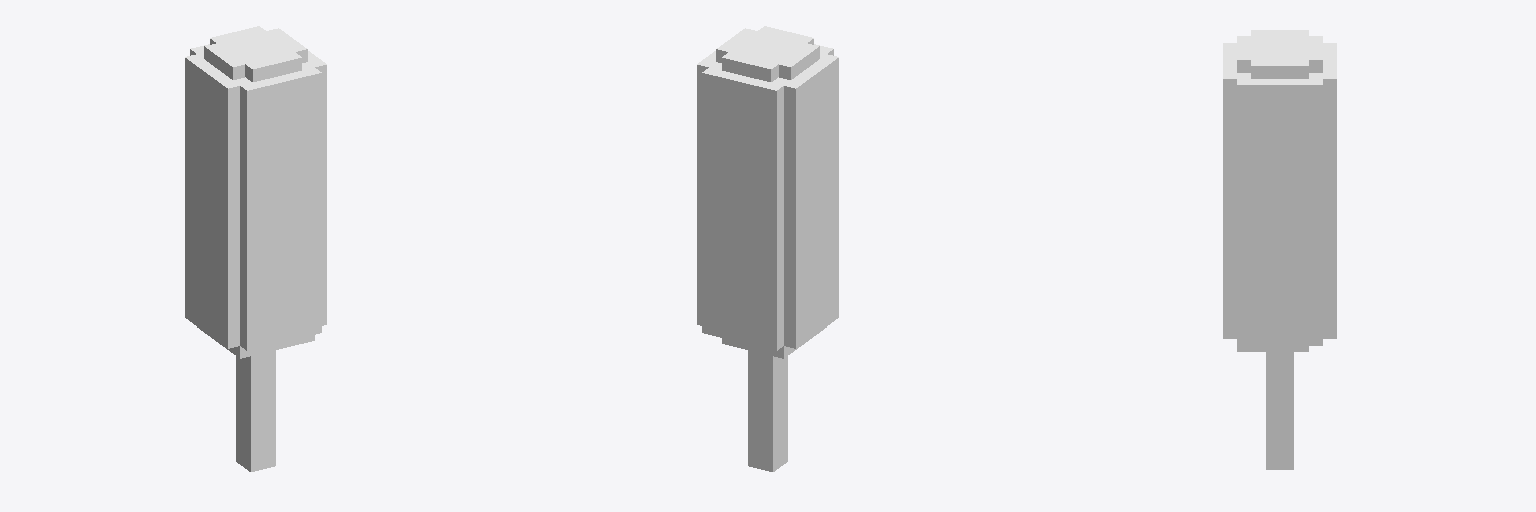
File: arvore4.obj
3 renders of one model, left to right at view 1: azimuth 30°, elevation 25°; view 2: azimuth 150°, elevation 25°; view 3: azimuth 270°, elevation 25°, orthographic.
Parts seen in each view (by area): view 1: object 1; view 2: object 1; view 3: object 1.
Part boxes in pixels (bbox=[...]): object 1: bbox=[185, 26, 326, 471]; object 1: bbox=[697, 26, 838, 471]; object 1: bbox=[1223, 30, 1336, 469].
Size of the model in its own units: 0.8 by 3.2 by 0.8.